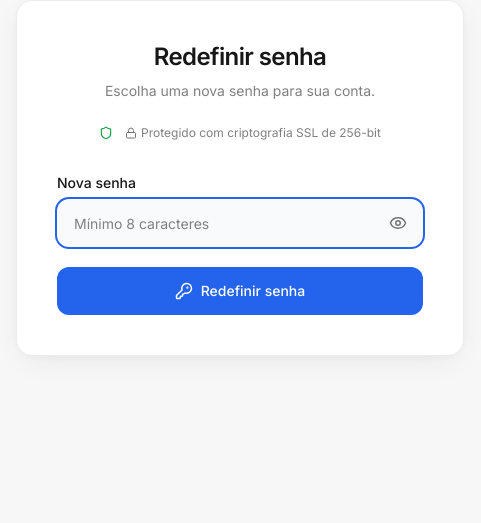
Test: ResetPasswordForm › validates password strength
The width and height of the screenshot is (481, 523).
Type "weak" into the password field labelled "Nova senha" at (240, 223), box [57,199,423,247]
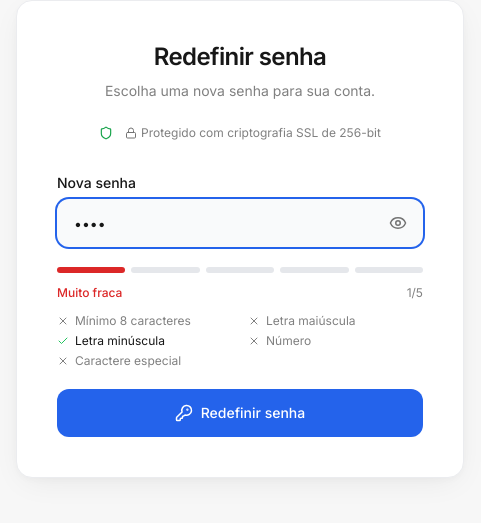
Click the button "Redefinir senha" at (240, 413), box [57,389,423,437]
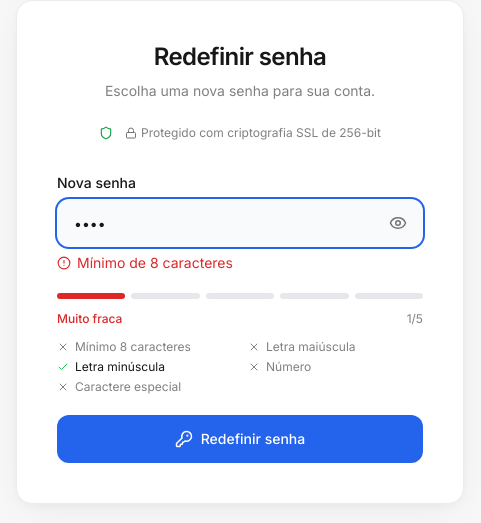
Now the text "Mínimo de 8 caracteres" is shown, box [57,254,233,271]
